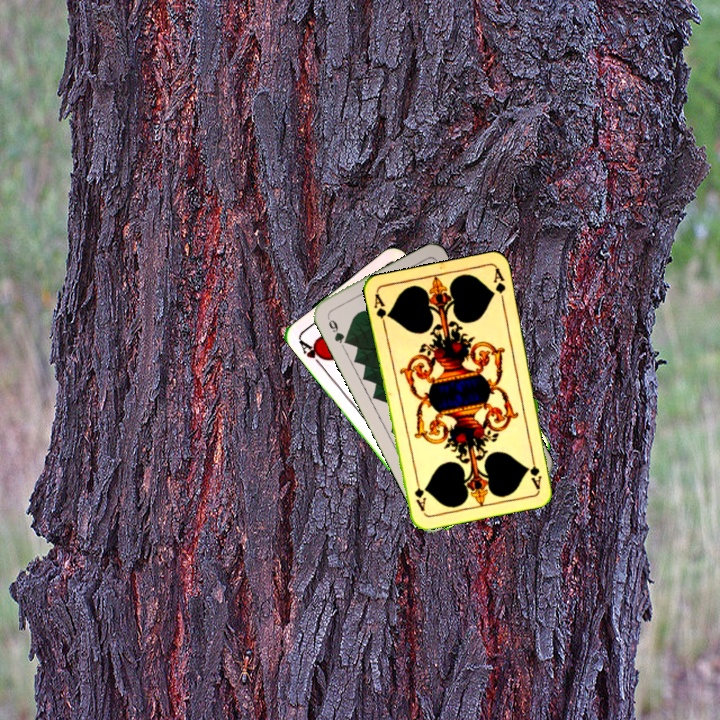G9: (323, 312, 351, 347)
GA: (370, 290, 392, 330), (526, 451, 544, 492)
HA: (295, 334, 329, 369)
